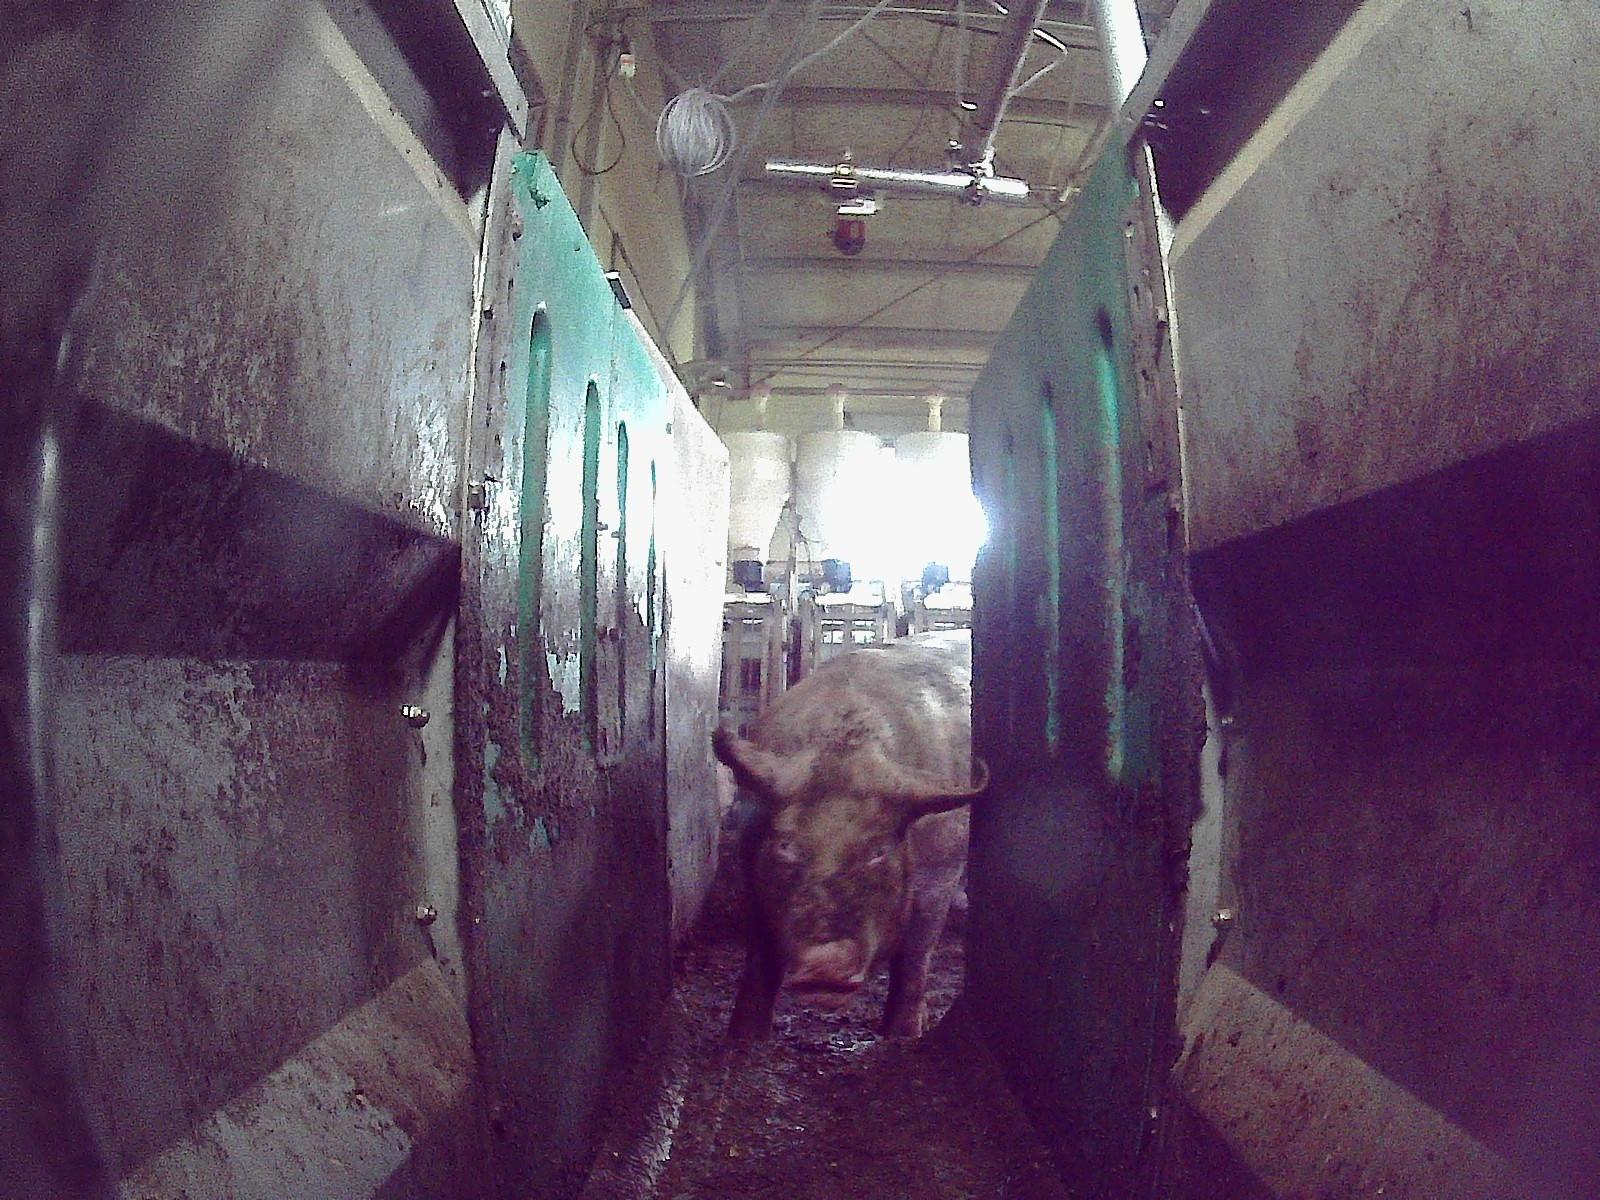Face: (750, 753, 915, 1006)
